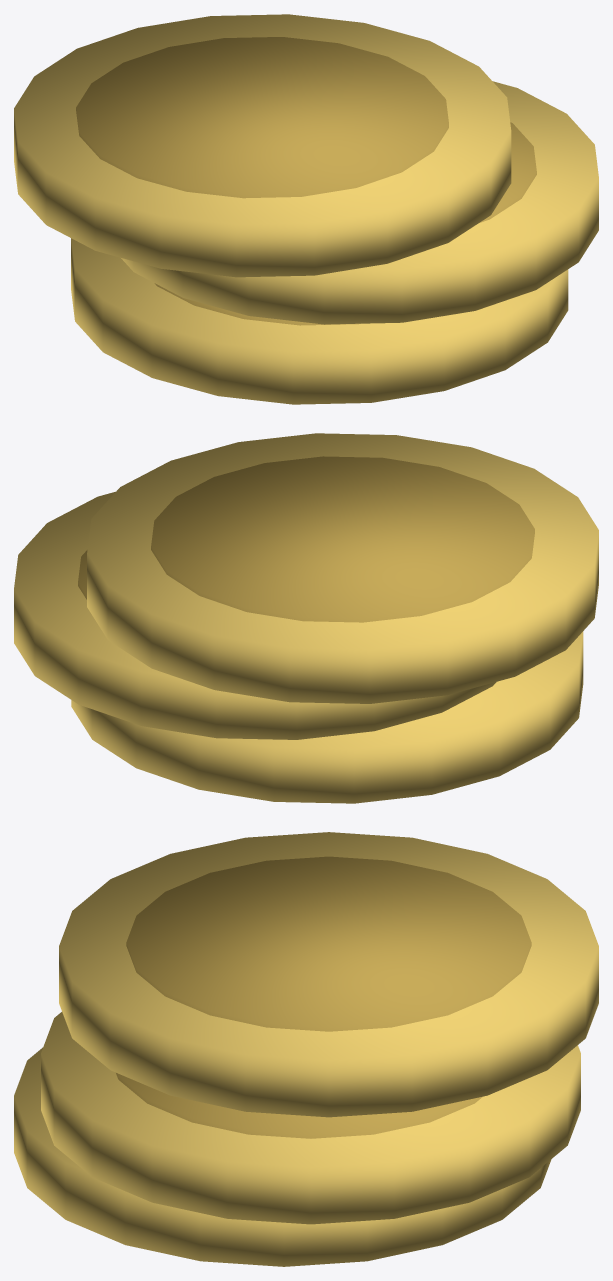
The model's file is moeda.glb.
3 renders of one model, top to bottom at view 1: azimuth 30°, elevation 25°; view 2: azimuth 150°, elevation 25°; view 3: azimuth 270°, elevation 25°, orthographic. The views are drawn at different scales.
Parts seen in each view (by area): view 1: Cylinder; view 2: Cylinder; view 3: Cylinder.
Part boxes in pixels (left/top/right/bottom): Cylinder: left=14, top=14, right=598, bottom=404; Cylinder: left=14, top=433, right=598, bottom=803; Cylinder: left=14, top=832, right=598, bottom=1266.
Bounding box in the file's own units: 0.142 × 0.048 × 0.13.
